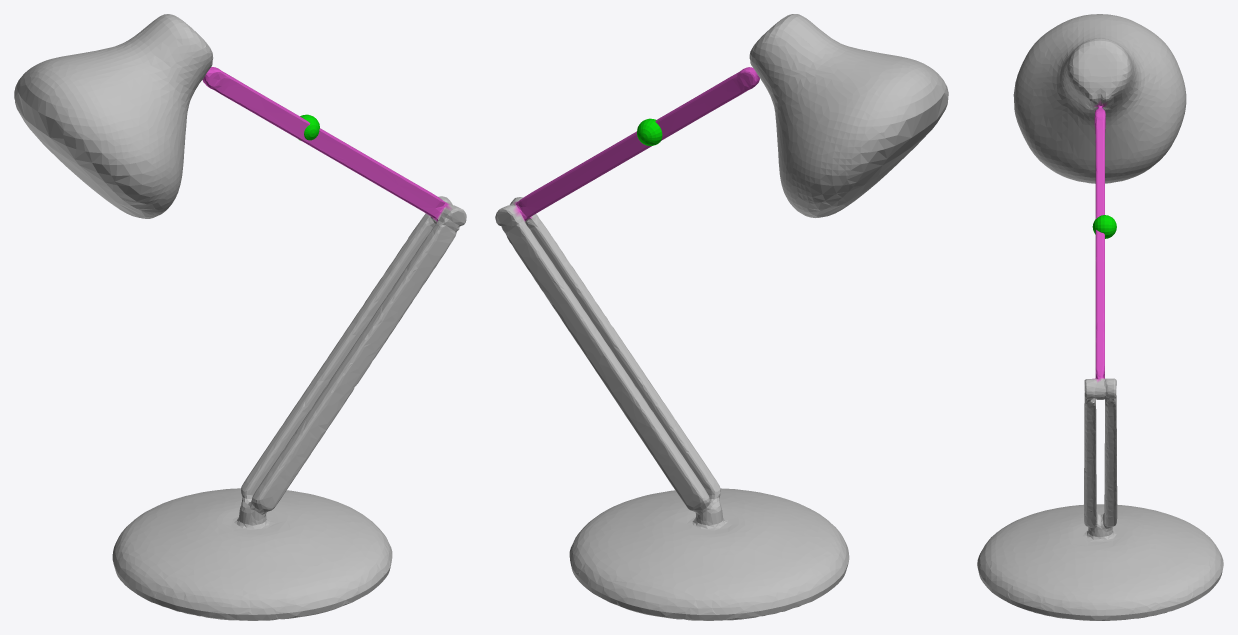
File: lamp_dift.glb
3 renders of one model, left to right at view 1: azimuth 30°, elevation 25°; view 2: azimuth 150°, elevation 25°; view 3: azimuth 270°, elevation 25°, orthographic. The views are drawn at different scales.
Bounding box in the file's own units: 1.25 × 1.59 × 0.7116.
